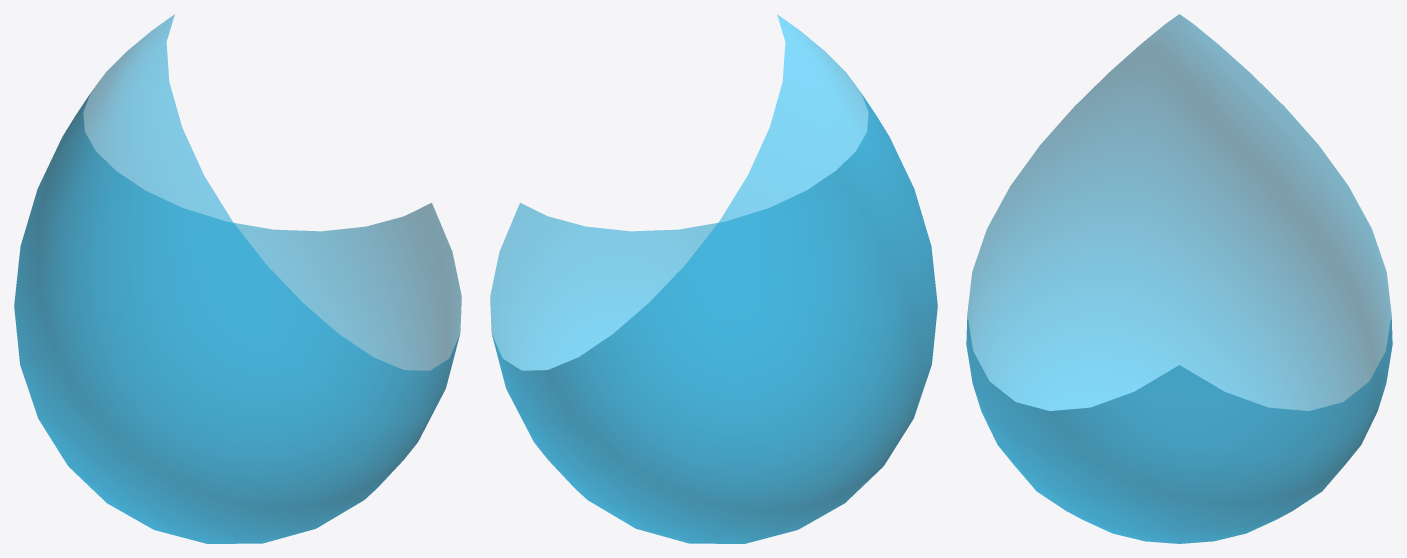
The model's file is Wisp C.dae.
The picture shows the model from 3 angles, left to right: view 1: azimuth 30°, elevation 25°; view 2: azimuth 150°, elevation 25°; view 3: azimuth 270°, elevation 25°; orthographic projection. The views are drawn at different scales.
Visible parts, largest first — view 1: Sphere.002; view 2: Sphere.002; view 3: Sphere.002.
Boxes of the visible parts, <box> form: Sphere.002: <box>14,14,461,543</box>; Sphere.002: <box>490,14,937,543</box>; Sphere.002: <box>966,14,1392,543</box>.
Size of the model in its own units: 0.8434 by 0.8559 by 1.08.
